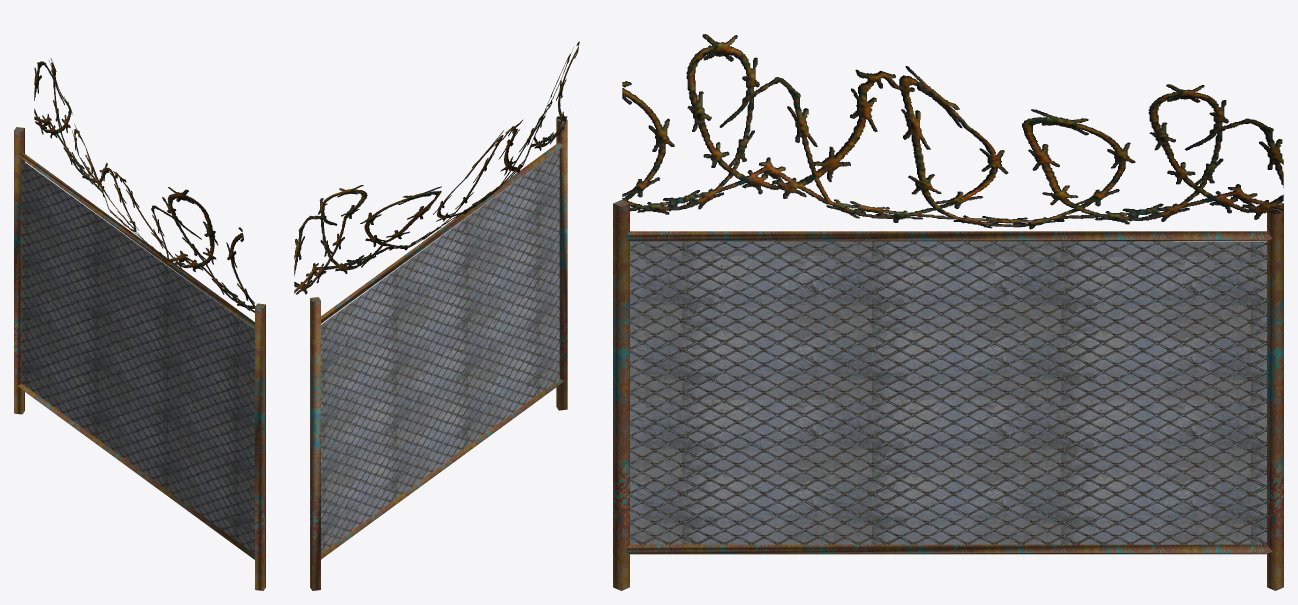
Rendered from Prop_Tsw03.glb.
3 renders of one model, left to right at view 1: azimuth 30°, elevation 25°; view 2: azimuth 150°, elevation 25°; view 3: azimuth 270°, elevation 25°, orthographic. The views are drawn at different scales.
Visible parts, largest first — view 1: xiutz_tsw_03_0; view 2: xiutz_tsw_03_0; view 3: xiutz_tsw_03_0.
Boxes of the visible parts, <box> form: xiutz_tsw_03_0: <box>14,58,265,590</box>; xiutz_tsw_03_0: <box>294,41,579,590</box>; xiutz_tsw_03_0: <box>613,34,1283,590</box>.
Bounding box in the file's own units: 1.6 × 7.28 × 8.32.
2 materials, 2 textured.
